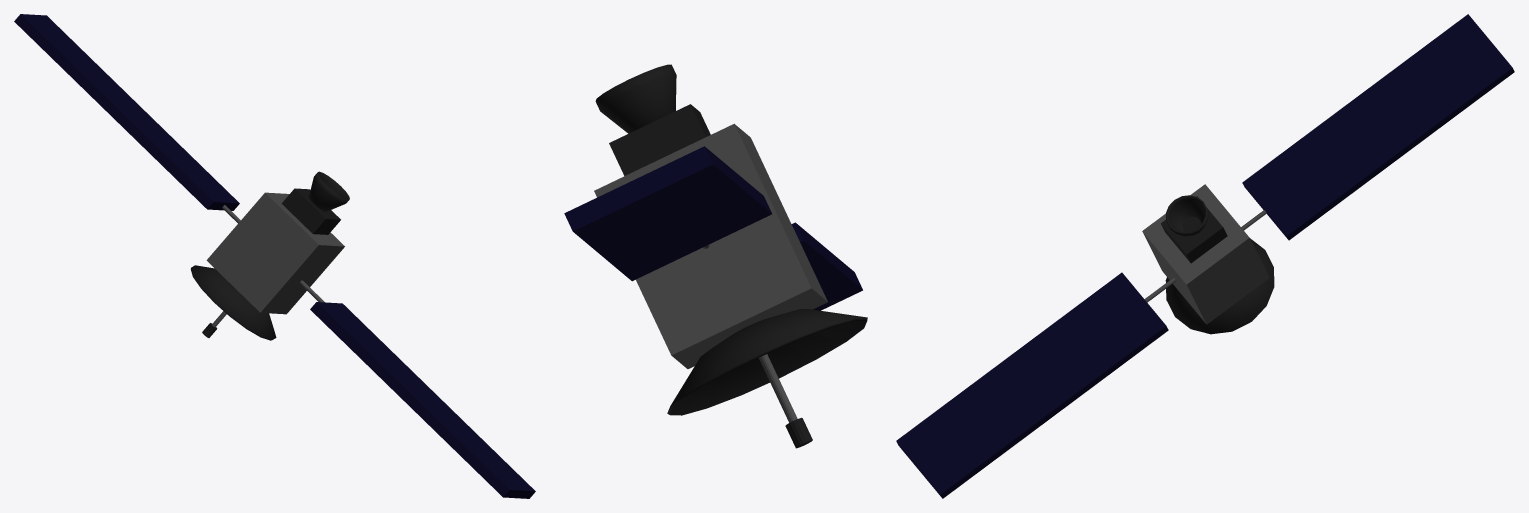
The model's file is sat2.obj.
3 views of the same model, side by side, from view 1: azimuth 30°, elevation 25°; view 2: azimuth 150°, elevation 25°; view 3: azimuth 270°, elevation 25° (orthographic). The views are drawn at different scales.
Visible parts, largest first — view 1: satellite_sep13, Solar_Panel_Right_satellite_sep3, Solar_Panel_Left_satellite_sep4, satellite_sep12, satellite_sep2, satellite; view 2: satellite_sep13, Solar_Panel_Left_satellite_sep4, satellite_sep12, satellite, satellite_sep2, Solar_Panel_Right_satellite_sep3, satellite_sep7, satellite_sep6; view 3: Solar_Panel_Right_satellite_sep3, Solar_Panel_Left_satellite_sep4, satellite_sep13, satellite_sep12, satellite_sep2, satellite.
Boxes of the visible parts, x1,y1,x2,y2 form: satellite_sep13: [206, 192, 344, 314]; Solar_Panel_Right_satellite_sep3: [310, 302, 535, 498]; Solar_Panel_Left_satellite_sep4: [14, 14, 239, 210]; satellite_sep12: [190, 265, 276, 340]; satellite_sep2: [281, 188, 340, 234]; satellite: [309, 171, 349, 211]; satellite_sep13: [594, 123, 827, 368]; Solar_Panel_Left_satellite_sep4: [564, 146, 771, 281]; satellite_sep12: [667, 309, 867, 415]; satellite: [595, 64, 676, 133]; satellite_sep2: [609, 104, 710, 175]; Solar_Panel_Right_satellite_sep3: [791, 222, 862, 310]; satellite_sep7: [759, 354, 797, 422]; satellite_sep6: [785, 417, 812, 448]; Solar_Panel_Right_satellite_sep3: [896, 272, 1168, 498]; Solar_Panel_Left_satellite_sep4: [1242, 14, 1514, 240]; satellite_sep13: [1142, 184, 1269, 324]; satellite_sep12: [1165, 238, 1274, 334]; satellite_sep2: [1161, 196, 1227, 263]; satellite: [1166, 195, 1208, 236].
Size of the model in its own units: 0.7108 by 0.9286 by 1.44.
